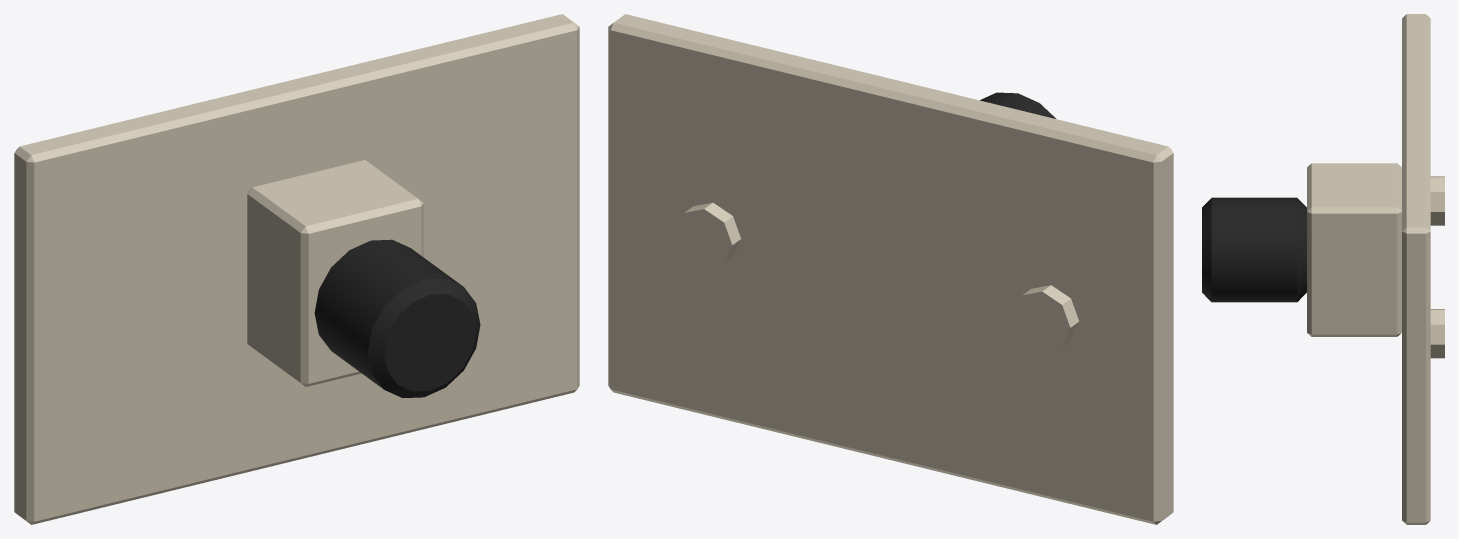
File: Kit_RunRecede_TrackStop.fbx
3 renders of one model, left to right at view 1: azimuth 30°, elevation 25°; view 2: azimuth 150°, elevation 25°; view 3: azimuth 270°, elevation 25°, orthographic. The views are drawn at different scales.
Parts seen in each view (by area): view 1: Kit_RunRecede_TrackStop_LOD0; view 2: Kit_RunRecede_TrackStop_LOD0; view 3: Kit_RunRecede_TrackStop_LOD0.
Boxes of the visible parts, left/top/right/bottom form: Kit_RunRecede_TrackStop_LOD0: left=14, top=14, right=579, bottom=524; Kit_RunRecede_TrackStop_LOD0: left=608, top=14, right=1173, bottom=524; Kit_RunRecede_TrackStop_LOD0: left=1202, top=14, right=1444, bottom=524.
Size of what is drawn, in the model's own units: 0.108 by 0.069 by 0.051.
